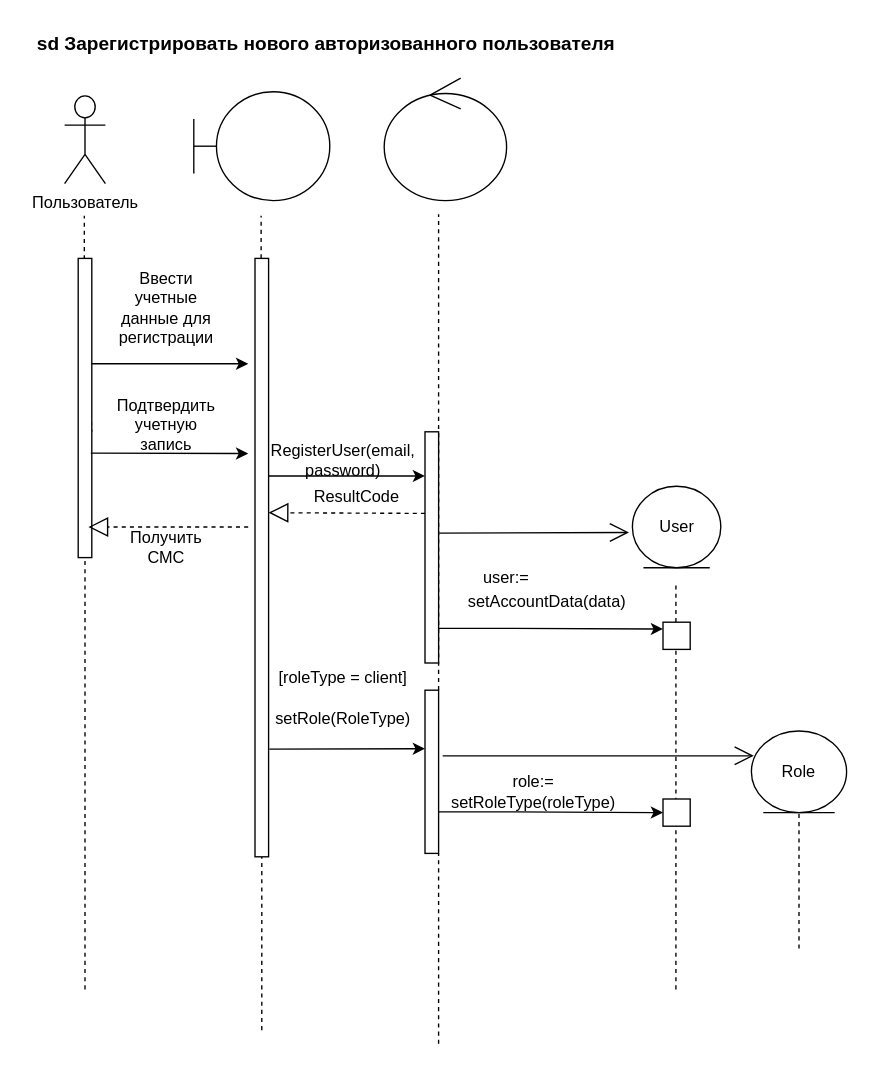
This 870x1069 diagram has some shape labels left out. Here are the shapes that lost their labels. From the top down, the centre of each, then its label:
At (x=261, y=145): "Форма ввода данных".
At (x=445, y=139): "Account Controller".
